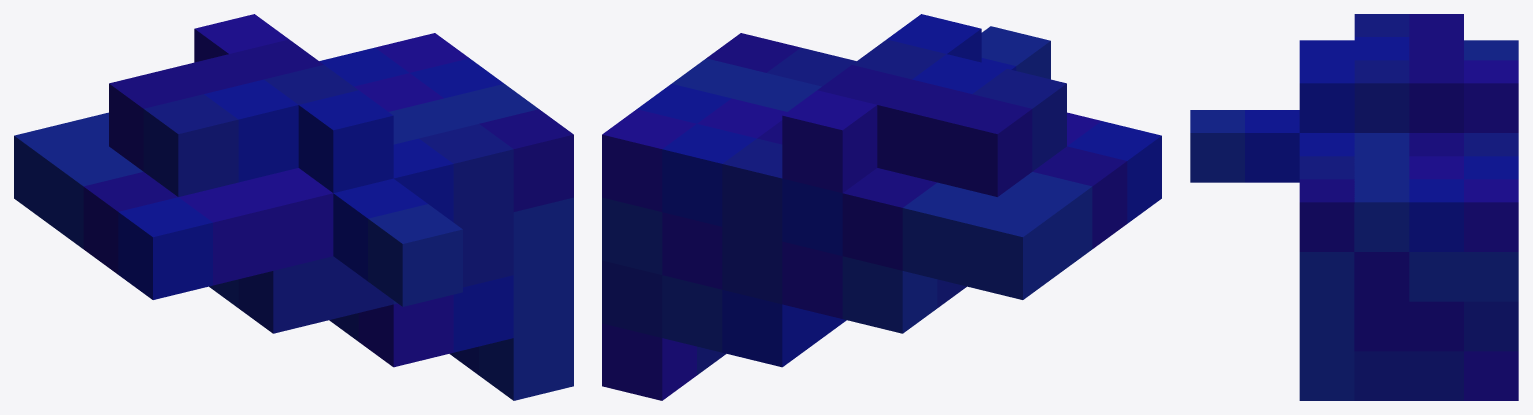
Rendered from FurroHandL.fbx.
3 views of the same model, side by side, from view 1: azimuth 30°, elevation 25°; view 2: azimuth 150°, elevation 25°; view 3: azimuth 270°, elevation 25° (orthographic). The views are drawn at different scales.
Parts seen in each view (by area): view 1: FurroHandL; view 2: FurroHandL; view 3: FurroHandL.
Boxes of the visible parts, <box> form: FurroHandL: <box>14,14,573,400</box>; FurroHandL: <box>602,14,1161,400</box>; FurroHandL: <box>1190,14,1518,400</box>.
Bounding box in the file's own units: 70 × 50 × 60.
